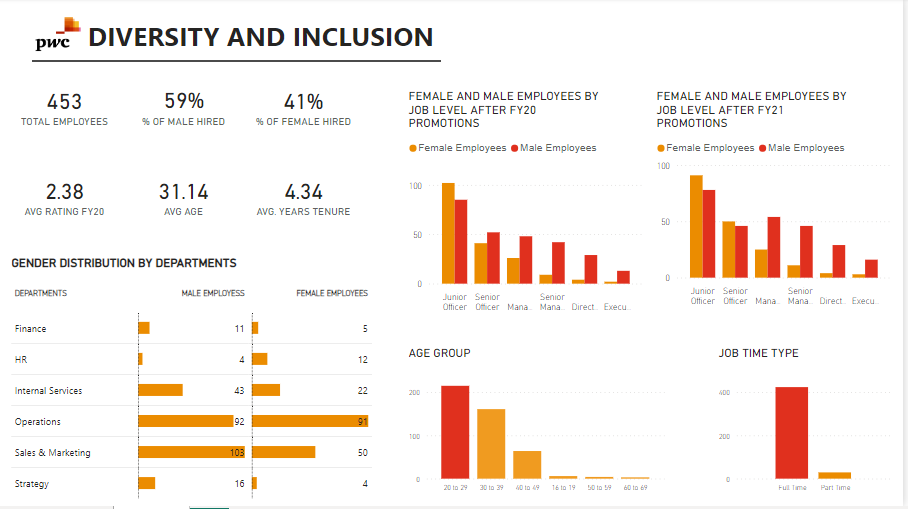

The dashboard page shown, as its layout file describes it:
{"tool":"powerbi","page":{"name":"Page 1","canvas":[1280,720],"ordinal":0},"visuals":[{"type":"card","fields":{"Values":["Pharma Group AG.% Of Female"]},"box":[349.9,87.8,162.7,128.2],"z":0},{"type":"card","fields":{"Values":["Pharma Group AG.% Of Male"]},"box":[180,87.9,163,127.6],"z":1000},{"type":"textbox","box":[83.6,22.7,575.4,65.2],"z":2000},{"type":"card","fields":{"Values":["Count(Pharma Group AG.Employee ID)"]},"box":[11.5,87.8,162.7,128.2],"z":3000},{"type":"columnChart","title":"AGE GROUP","fields":{"Category":["Pharma Group AG.Age group"],"Y":["CountNonNull(Pharma Group AG.Employee ID)"]},"box":[575.4,493.2,372.8,214],"z":4000},{"type":"tableEx","fields":{"Values":["Pharma Group AG.Department @01.07.2020","Pharma Group AG.Male Employees","Pharma Group AG.Female Employees"]},"box":[11.5,394.6,529.9,325.4],"z":5000},{"type":"clusteredColumnChart","title":"FEMALE AND MALE EMPLOYEES BY JOB LEVEL AFTER FY20 PROMOTIONS","fields":{"Category":["Pharma Group AG.Job Level after FY20 promotions"],"Y":["Pharma Group AG.Female Employees","Pharma Group AG.Male Employees"]},"box":[575.4,129,343,324.6],"z":6000},{"type":"clusteredColumnChart","title":"FEMALE AND MALE EMPLOYEES BY JOB LEVEL AFTER FY21 PROMOTIONS","fields":{"Category":["Pharma Group AG.Job Level after FY21 promotions"],"Y":["Pharma Group AG.Female Employees","Pharma Group AG.Male Employees"]},"box":[926.9,129,343,316.1],"z":7000},{"type":"columnChart","title":"JOB TIME TYPE","fields":{"Y":["CountNonNull(Pharma Group AG.Employee ID)"],"Category":["Pharma Group AG.Time type"]},"box":[1014.8,493.2,255.1,214],"z":8000},{"type":"card","fields":{"Values":["Pharma Group AG.AVG RATING FY20"]},"box":[11.5,216,162.7,128.2],"z":9000},{"type":"card","fields":{"Values":["Pharma Group AG.AVG AGE"]},"box":[180,216,162.7,128.2],"z":10000},{"type":"card","fields":{"Values":["Pharma Group AG.AVG TENURE"]},"box":[349.9,216,162.7,128.2],"z":11000},{"type":"textbox","box":[13,360,342.7,47.5],"z":12000},{"type":"image","box":[46.8,14.2,73.7,73.7],"z":13000},{"type":"shape","box":[46.8,87.9,1190.6,15.6],"z":14000},{"type":"slicer","fields":{"Values":["Pharma Group AG.Region group: nationality 1"]},"box":[1041.7,26.9,199.8,62.4],"z":14001}]}

Visuals, with their boxes in screenshot pixels (x1, y1, x2, y2), scaled from the page's 1280x720 canvas onto the 908x509 screenshot:
card - Pharma Group AG.% Of Female: <region>248, 62, 364, 153</region>
card - Pharma Group AG.% Of Male: <region>128, 62, 243, 152</region>
textbox: <region>59, 16, 467, 62</region>
card - Count(Pharma Group AG.Employee ID): <region>8, 62, 124, 153</region>
"AGE GROUP" columnChart: <region>408, 349, 673, 500</region>
tableEx - Pharma Group AG.Department @01.07.2020 x Pharma Group AG.Male Employees: <region>8, 279, 384, 508</region>
"FEMALE AND MALE EMPLOYEES BY JOB LEVEL AFTER FY20 PROMOTIONS" clusteredColumnChart: <region>408, 91, 651, 321</region>
"FEMALE AND MALE EMPLOYEES BY JOB LEVEL AFTER FY21 PROMOTIONS" clusteredColumnChart: <region>658, 91, 901, 315</region>
"JOB TIME TYPE" columnChart: <region>720, 349, 901, 500</region>
card - Pharma Group AG.AVG RATING FY20: <region>8, 153, 124, 243</region>
card - Pharma Group AG.AVG AGE: <region>128, 153, 243, 243</region>
card - Pharma Group AG.AVG TENURE: <region>248, 153, 364, 243</region>
textbox: <region>9, 255, 252, 288</region>
image: <region>33, 10, 85, 62</region>
shape: <region>33, 62, 878, 73</region>
slicer - Pharma Group AG.Region group: nationality 1: <region>739, 19, 881, 63</region>
